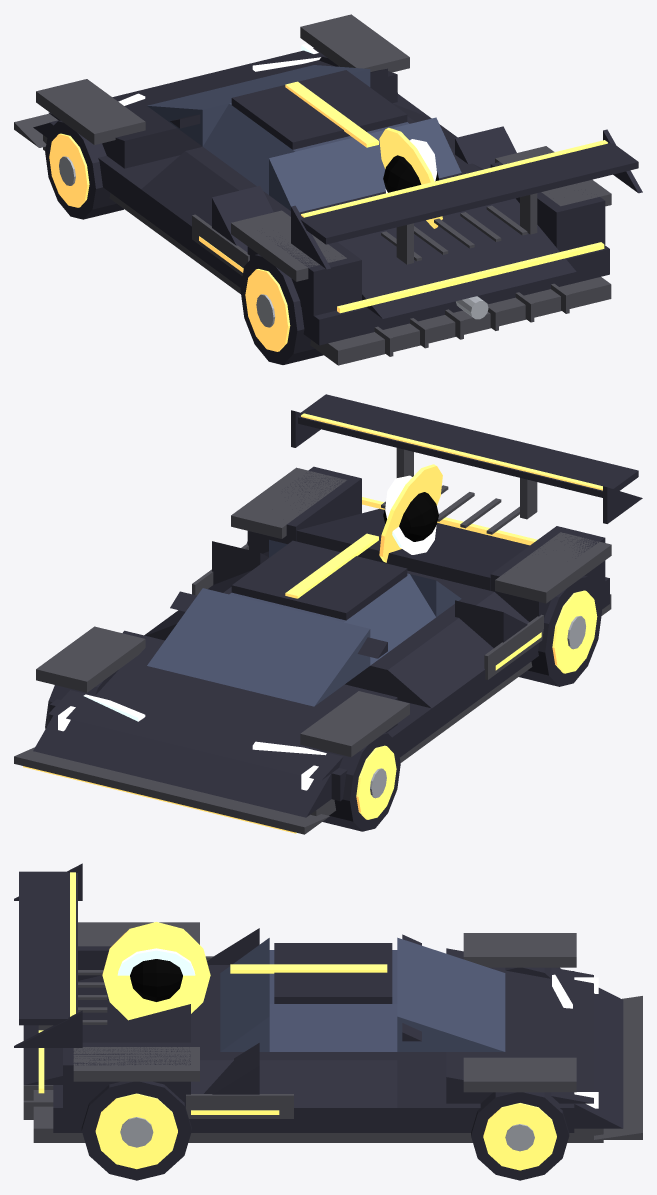
The model's file is singularity.glb.
3 views of the same model, one above another, from view 1: azimuth 30°, elevation 25°; view 2: azimuth 150°, elevation 25°; view 3: azimuth 270°, elevation 25° (orthographic). The views are drawn at different scales.
Parts seen in each view (by area): view 1: EngineDeck.003, Wing.003, Body.237, RearWindow.137, Roof.237, Floor.003, Nose.034, ArchWheel_FL.003, Windshield.137, ArchWheel_FR.003, CabinSideL.034, ShoulderL.034 (+22 smaller); view 2: Nose.034, Windshield.137, NoseTip.003, Wing.003, Roof.237, EngineDeck.003, ShoulderL.034, Splitter.044, ArchWheel_RL.003, Body.237, ArchWheel_FL.003, ArchWheel_FR.003 (+23 smaller); view 3: Windshield.137, Body.237, Nose.034, Wing.003, ShoulderR.034, Roof.237, CabinSideR.034, EngineDeck.003, Disc.003, Floor.003, NoseTip.003, RearWindow.137 (+23 smaller).
Part boxes in pixels (x1,y1,x2,y2): EngineDeck.003: [338, 198, 576, 318]; Wing.003: [300, 140, 638, 244]; Body.237: [49, 94, 609, 345]; RearWindow.137: [269, 117, 461, 212]; Roof.237: [231, 70, 407, 149]; Floor.003: [43, 135, 611, 365]; Nose.034: [48, 48, 397, 168]; ArchWheel_FL.003: [36, 79, 145, 144]; Windshield.137: [147, 65, 370, 146]; ArchWheel_FR.003: [300, 14, 409, 72]; CabinSideL.034: [203, 103, 294, 194]; ShoulderL.034: [141, 151, 238, 226]; Nose.034: [48, 630, 397, 780]; Windshield.137: [147, 588, 370, 706]; NoseTip.003: [33, 715, 331, 817]; Wing.003: [298, 394, 638, 497]; Roof.237: [231, 540, 407, 620]; EngineDeck.003: [296, 508, 529, 590]; ShoulderL.034: [387, 592, 529, 708]; Splitter.044: [14, 747, 329, 834]; ArchWheel_RL.003: [495, 532, 611, 603]; Body.237: [49, 577, 609, 801]; ArchWheel_FL.003: [300, 691, 409, 757]; ArchWheel_FR.003: [36, 626, 145, 692]; Windshield.137: [397, 937, 505, 1051]; Body.237: [53, 971, 574, 1132]; Nose.034: [446, 948, 593, 1103]; Wing.003: [19, 871, 77, 1025]; ShoulderR.034: [191, 1060, 397, 1107]; Roof.237: [274, 943, 392, 1003]; CabinSideR.034: [269, 1004, 397, 1051]; EngineDeck.003: [23, 975, 190, 1084]; Disc.003: [102, 922, 210, 1020]; Floor.003: [33, 1090, 603, 1142]; NoseTip.003: [574, 988, 623, 1128]; RearWindow.137: [220, 938, 269, 1051].
Bounding box in the file's own units: 3.59 × 2.04 × 6.4.
